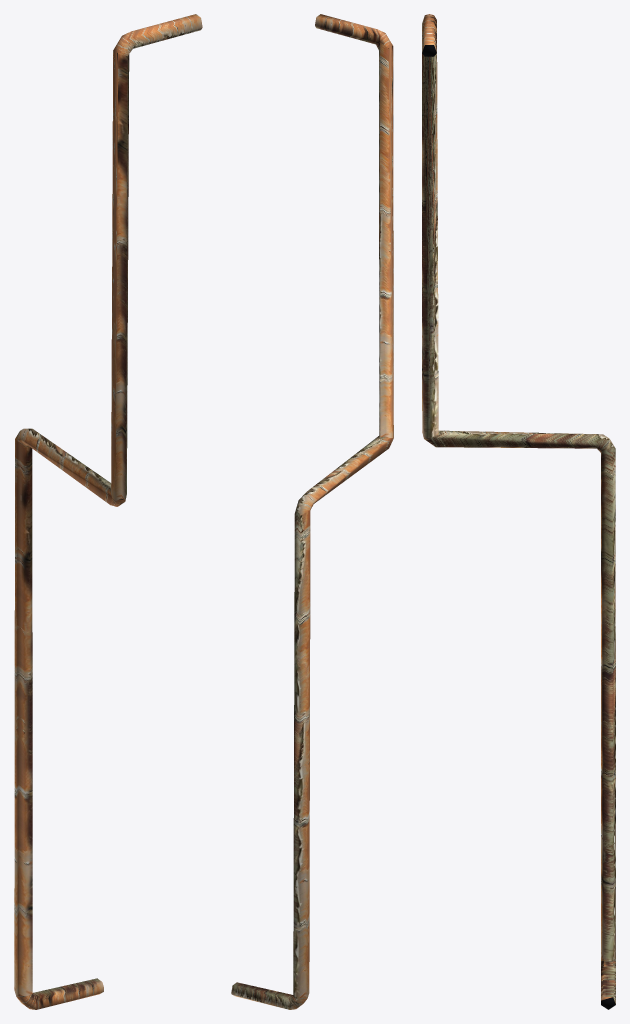
File: wallPipe3_100.fbx
3 renders of one model, left to right at view 1: azimuth 30°, elevation 25°; view 2: azimuth 150°, elevation 25°; view 3: azimuth 270°, elevation 25°, orthographic. The views are drawn at different scales.
Parts seen in each view (by area): view 1: pipeE200; view 2: pipeE200; view 3: pipeE200.
Boxes of the visible parts, bbox=[...] form: pipeE200: bbox=[14, 14, 202, 1009]; pipeE200: bbox=[231, 14, 393, 1009]; pipeE200: bbox=[422, 14, 615, 1009].
Size of the model in its own units: 0.5333 by 6.23 by 1.13.
